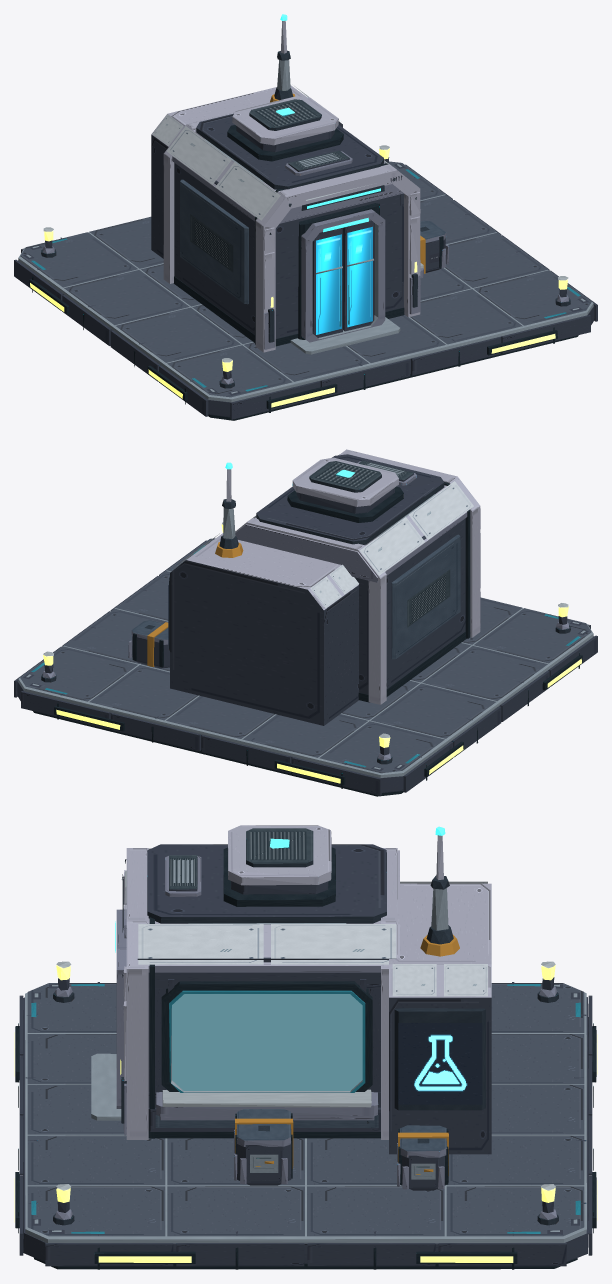
File: LB01_LaboratorioBasico_Distancia.fbx
3 renders of one model, top to bottom at view 1: azimuth 30°, elevation 25°; view 2: azimuth 150°, elevation 25°; view 3: azimuth 270°, elevation 25°, orthographic. The views are drawn at different scales.
Visible parts, largest first — view 1: EstructuraDistante_1; view 2: EstructuraDistante_1; view 3: EstructuraDistante_1, VidriosDistantes_1.
Boxes of the visible parts, x1,y1,x2,y2 form: EstructuraDistante_1: (14, 14, 597, 420); EstructuraDistante_1: (14, 449, 597, 796); EstructuraDistante_1: (14, 825, 597, 1269); VidriosDistantes_1: (172, 994, 362, 1090).
Size of the model in its own units: 5.97 by 3.53 by 5.57.
